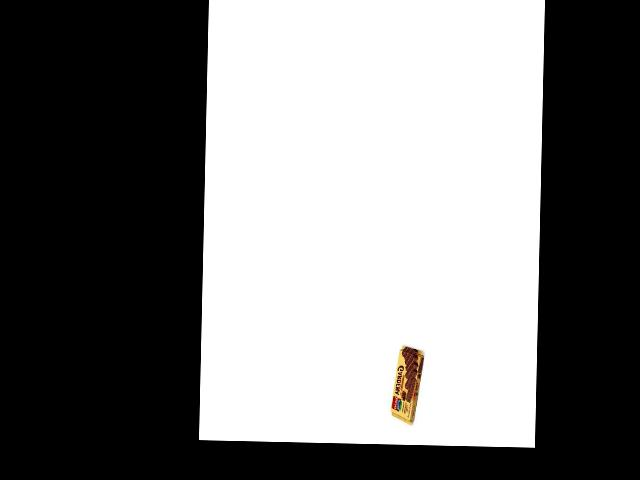chocolate: (389, 341, 421, 427)
